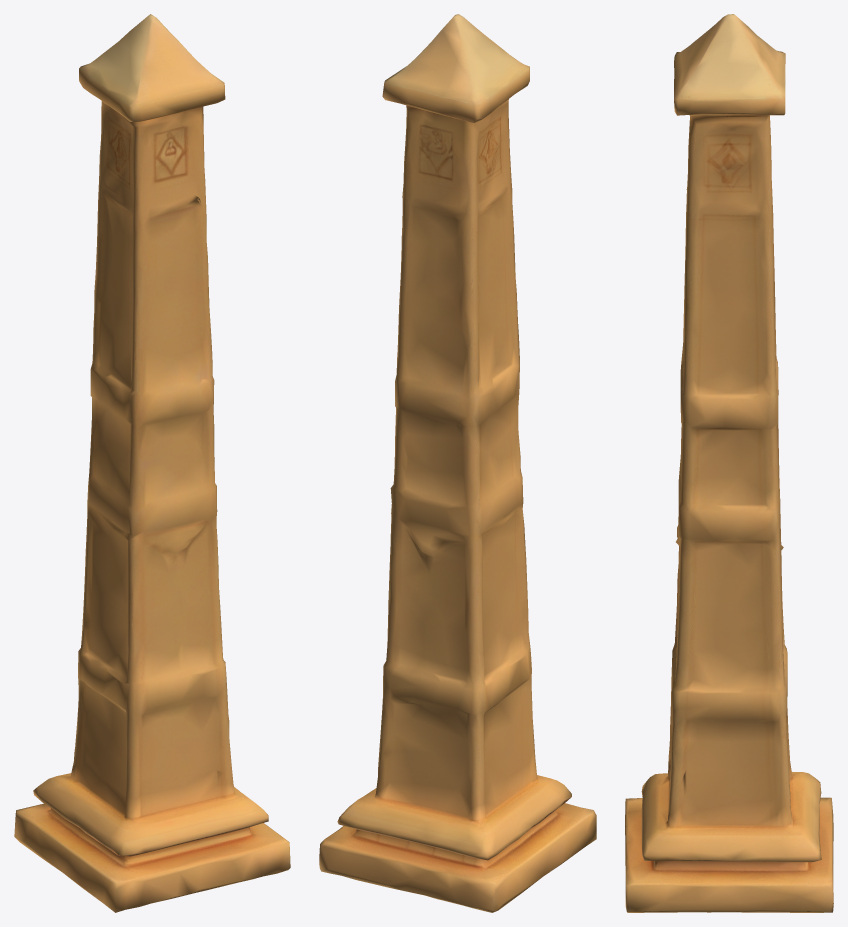
Rendered from obelisk_egypt.glb.
3 renders of one model, left to right at view 1: azimuth 30°, elevation 25°; view 2: azimuth 150°, elevation 25°; view 3: azimuth 270°, elevation 25°, orthographic. The views are drawn at different scales.
Bounding box in the file's own units: 0.4393 × 2 × 0.4421.
Materials: 1 (1 with a texture image).
